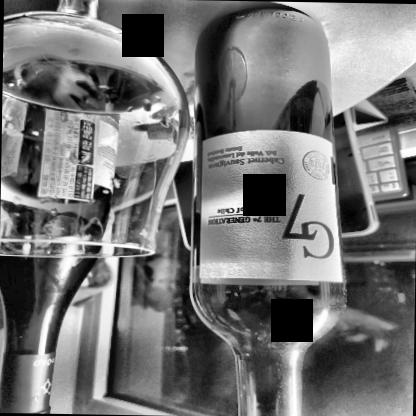G7: (198, 132, 342, 284)
